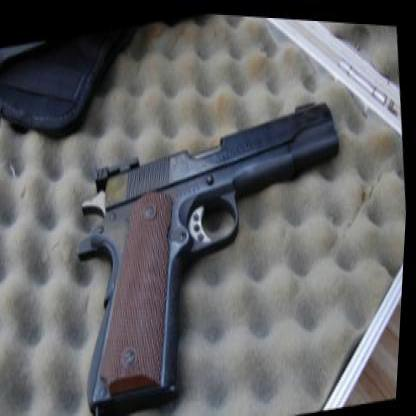pistol: (55, 71, 365, 413)
